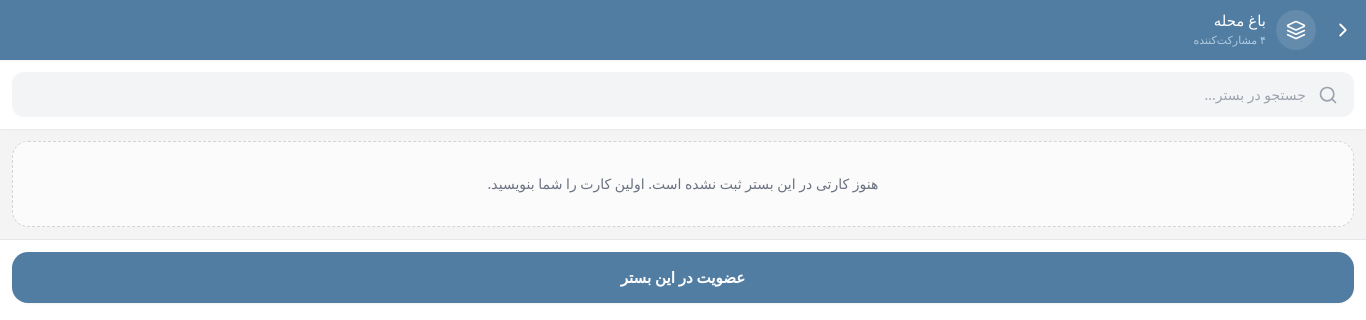
Test: SpacePage: a space looks like a conversation › lets them join, and then write
Expected: the heading "باغ محله" is shown, [1214,10,1266,30]
Click the button "عضویت در این بستر" at (683, 277), box [12,252,1354,302]
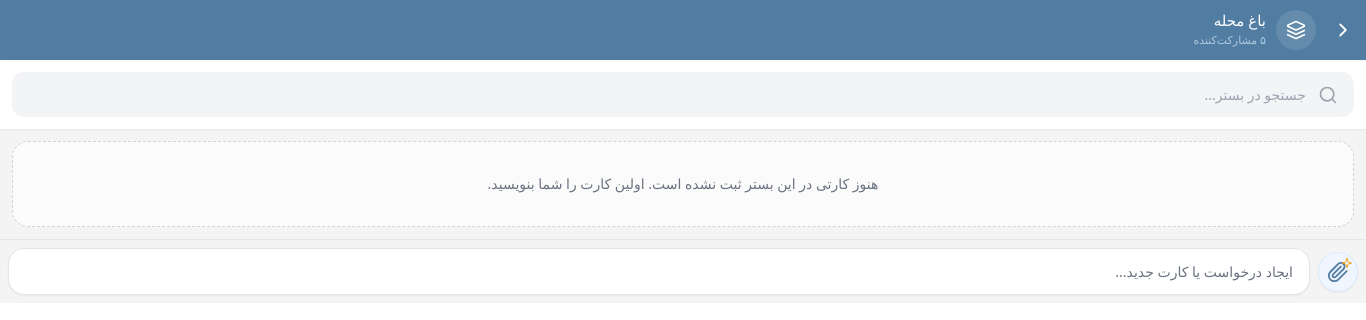
Expected: the button "ایجاد درخواست یا کارت جدید..." is shown, [8,248,1310,295]
Expected: the text "۵ مشارکت‌کننده" is shown, [1193,32,1266,49]
